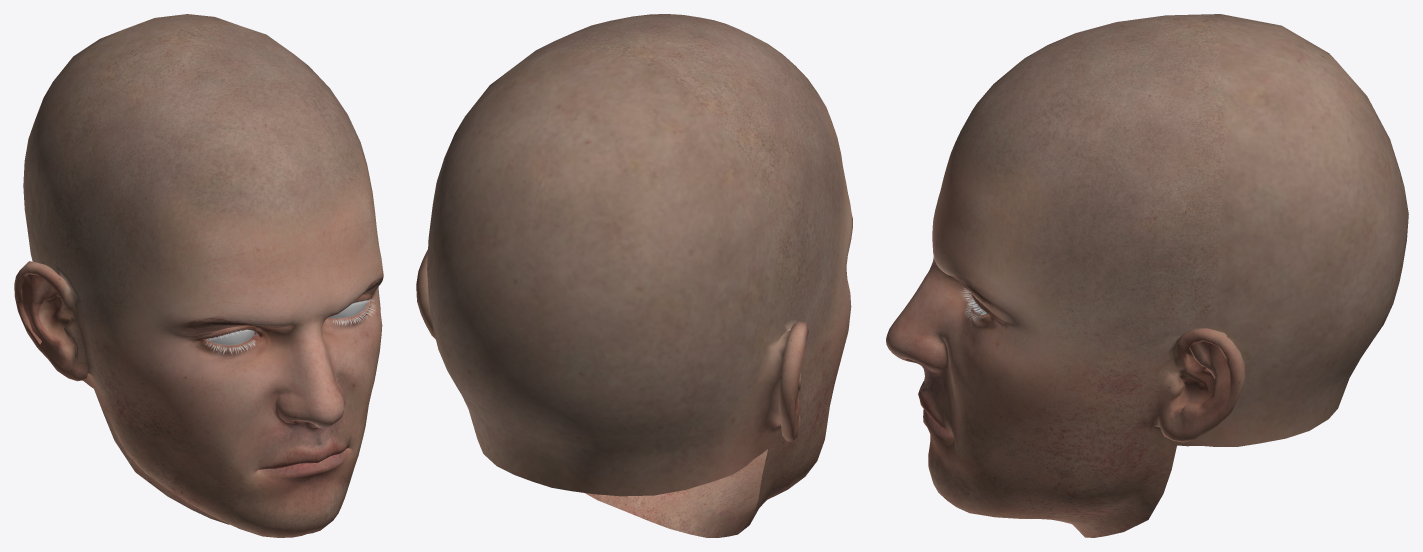
File: Old.obj
3 views of the same model, side by side, from view 1: azimuth 30°, elevation 25°; view 2: azimuth 150°, elevation 25°; view 3: azimuth 270°, elevation 25° (orthographic). The views are drawn at different scales.
Visible parts, largest first — view 1: head, rEye; view 2: head; view 3: head.
Part boxes in pixels (box(x1,y1,x2,y2)): head: box(14, 14, 383, 537); rEye: box(206, 330, 254, 345); head: box(416, 14, 852, 537); head: box(886, 14, 1408, 537).
Size of the model in its own units: 18.04 by 24.02 by 22.74.
